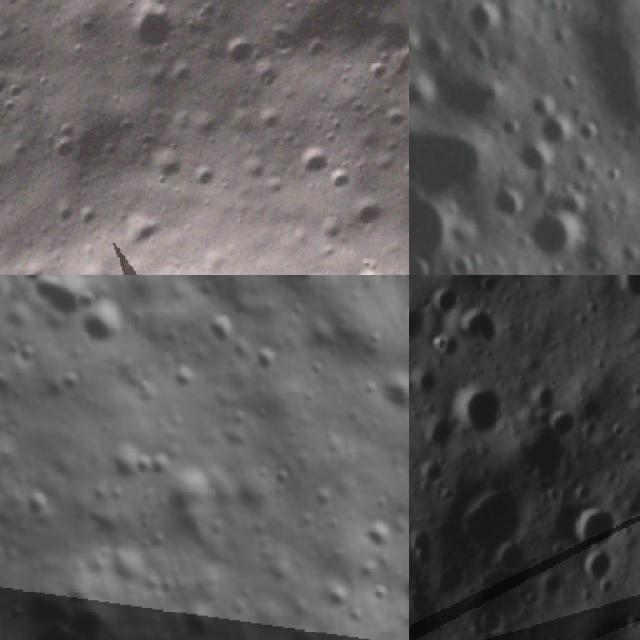crater: (409, 71, 506, 227), (513, 192, 596, 275), (409, 174, 477, 275), (449, 493, 540, 559), (114, 0, 186, 63), (72, 296, 136, 358), (459, 380, 514, 452), (337, 188, 399, 250), (24, 275, 90, 333), (362, 352, 409, 427), (110, 204, 168, 263), (546, 173, 602, 228), (287, 136, 339, 190), (458, 301, 512, 348), (144, 140, 192, 189), (409, 62, 446, 122), (518, 82, 565, 129), (534, 106, 581, 153), (457, 0, 508, 40), (217, 28, 261, 74), (439, 237, 490, 275), (578, 508, 615, 558), (183, 158, 224, 200), (568, 110, 609, 151), (579, 559, 627, 590), (319, 162, 357, 200), (359, 54, 396, 92), (45, 132, 82, 170), (623, 103, 640, 181), (0, 71, 36, 107), (493, 111, 528, 147), (409, 242, 447, 275), (390, 556, 409, 617), (473, 612, 507, 640), (409, 13, 427, 64), (264, 275, 325, 289), (343, 259, 396, 275), (432, 287, 458, 319), (612, 275, 640, 303), (603, 260, 640, 275), (4, 0, 48, 11), (0, 69, 12, 106)
